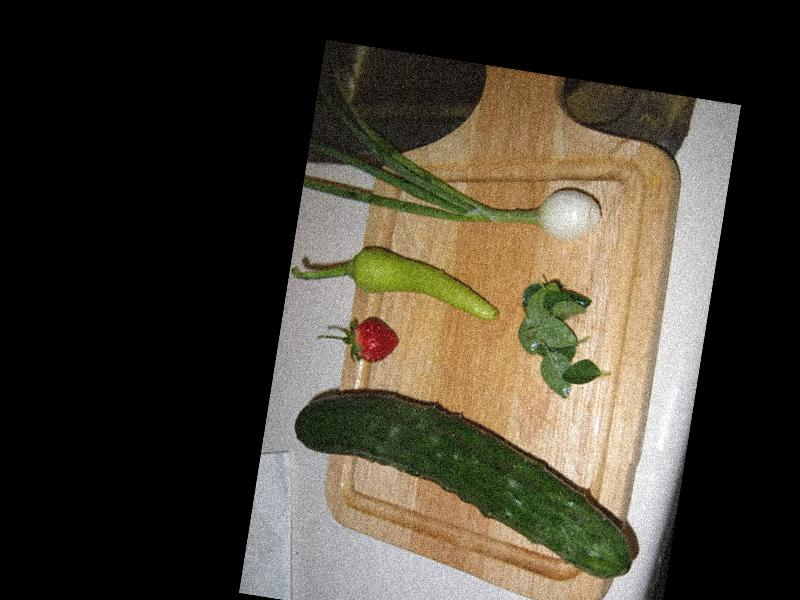Cucumber: (280, 381, 651, 582)
